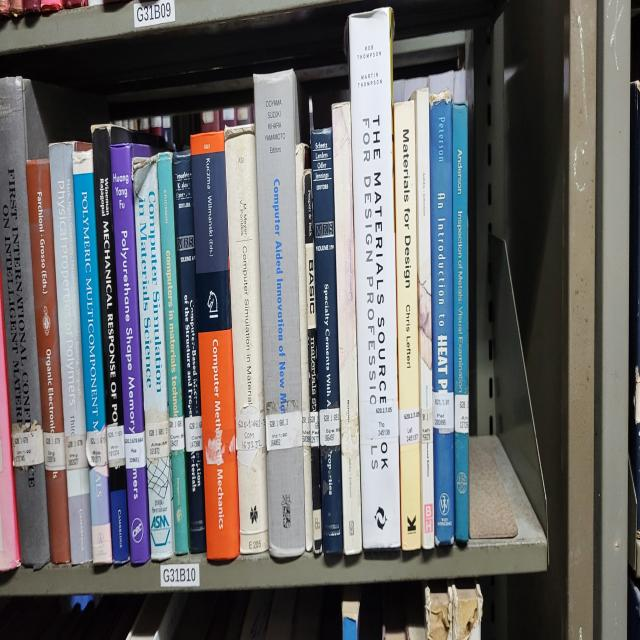Book: (0, 76, 100, 568), (349, 8, 401, 549), (254, 70, 306, 560), (193, 129, 240, 560), (225, 130, 269, 555), (49, 141, 92, 565), (26, 160, 70, 563), (132, 157, 174, 560), (110, 143, 150, 565), (72, 149, 112, 565), (92, 124, 129, 563), (172, 149, 206, 552), (332, 103, 362, 555), (311, 127, 342, 555), (158, 152, 189, 555), (394, 100, 421, 552), (429, 92, 455, 544), (414, 87, 434, 549), (452, 103, 469, 541), (295, 143, 312, 552), (304, 170, 322, 555)
Label: (236, 406, 265, 468), (265, 411, 302, 452), (365, 400, 399, 438), (341, 398, 359, 457), (86, 425, 108, 468), (146, 419, 169, 460), (432, 392, 454, 433), (44, 430, 66, 471), (65, 433, 88, 471), (106, 425, 125, 468), (125, 430, 146, 468), (399, 409, 420, 446), (319, 409, 340, 446), (205, 430, 225, 465), (185, 417, 202, 452), (169, 417, 185, 452), (455, 395, 469, 433), (420, 409, 432, 444), (310, 411, 320, 446), (301, 411, 311, 446)
